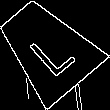L_NW: (18, 19, 76, 78)
